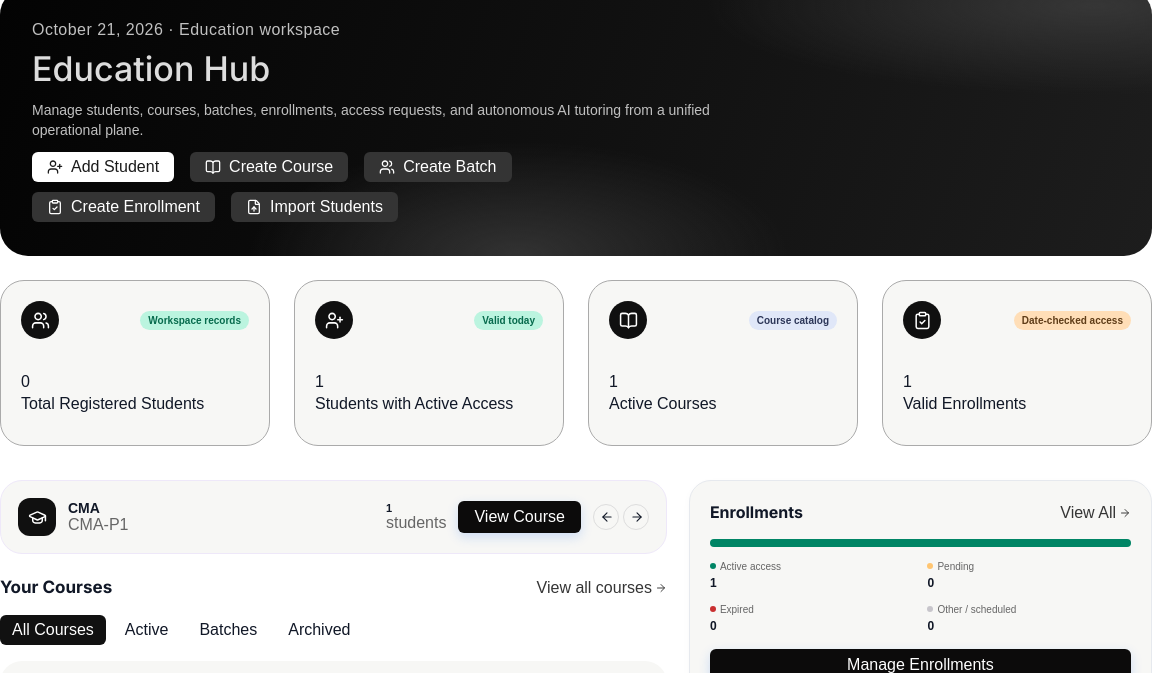
Test case: PDF dashboard interactions › shows real courses, filters archived records, and changes chart periods
expect the heading "Education Hub" is shown: met, box [32,48,270,89]
Click the button "Archived" at (319, 630), box [276,615,362,645]
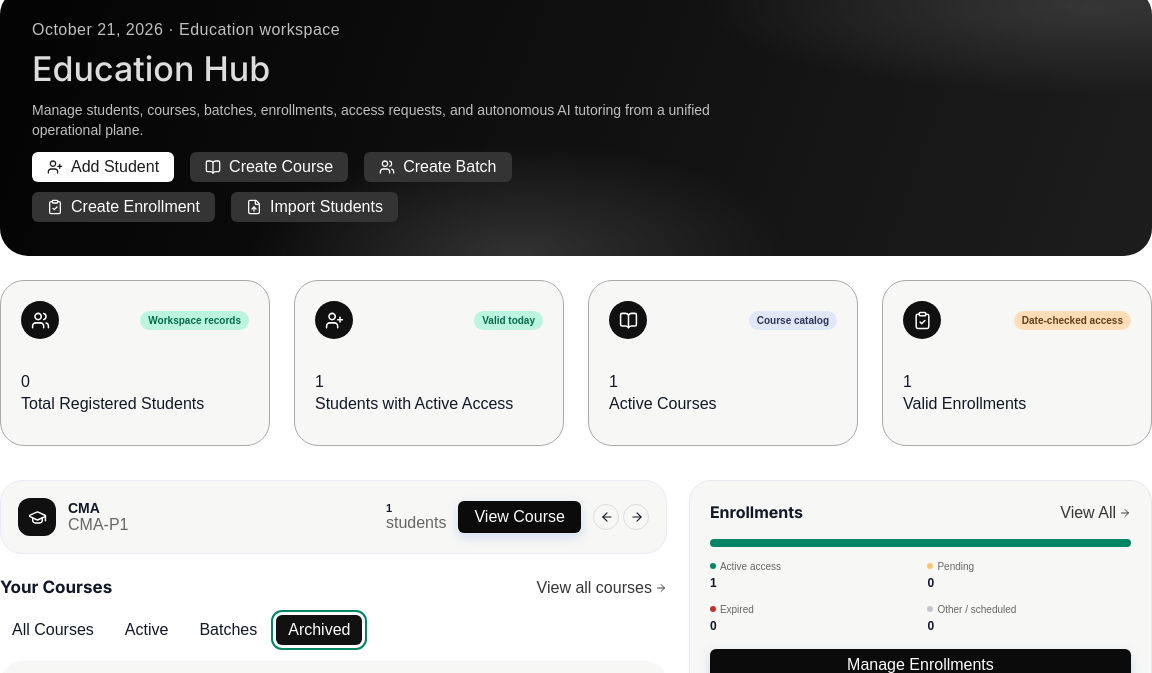
Click the button named "Next course" at (636, 517), box [623,504,649,530]
(page scrolled)
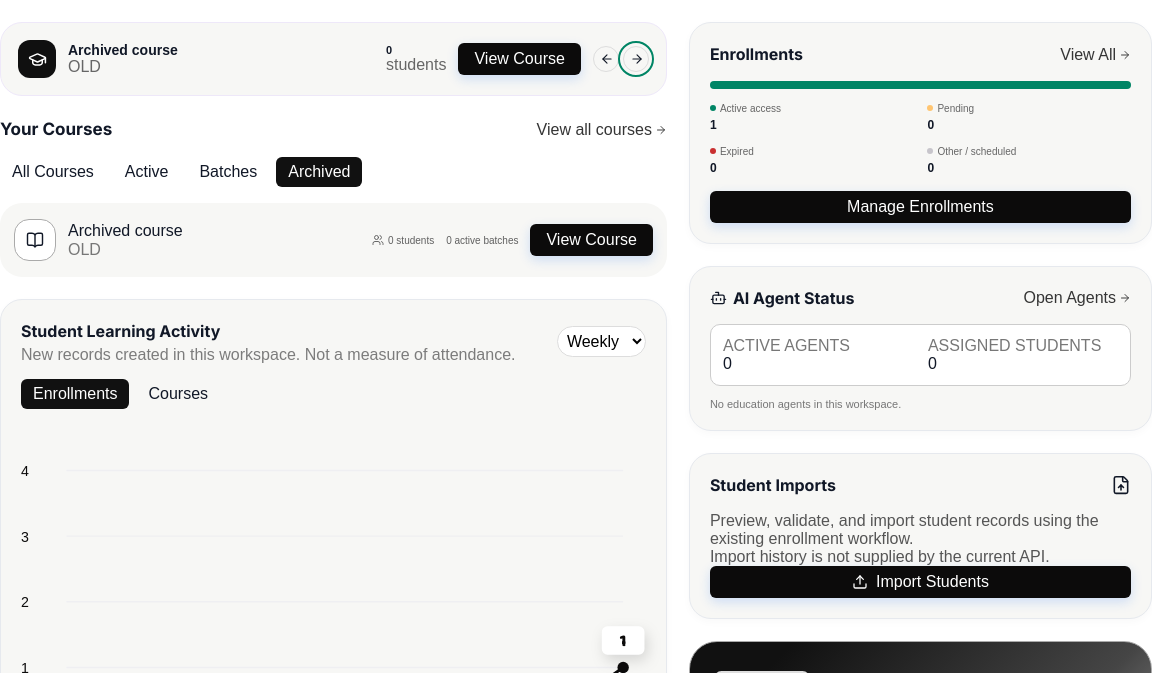
expect the link with aria-label "Continue with Archived course" has attribute href="/education/courses?selected=old": met, box [458,43,581,75]
Select "Monthly" in the dropdown named "Academy chart period" at (601, 342), box [557,326,646,357]
(page scrolled)
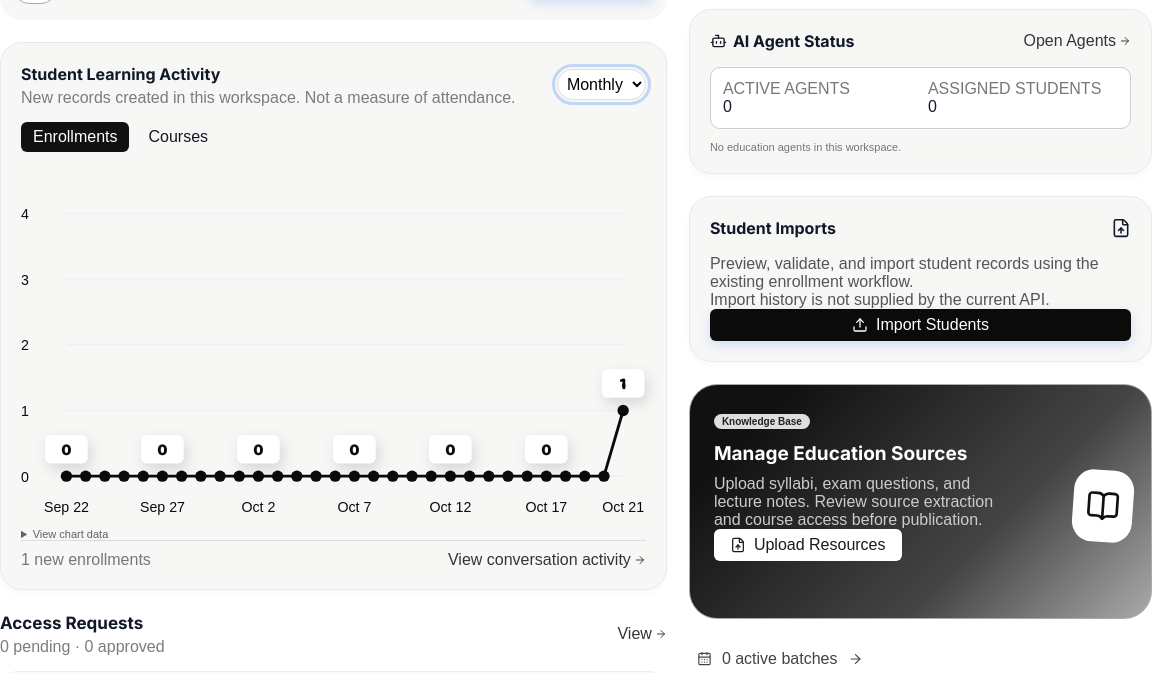
expect the picture named "Enrollments created in the last 30 days" is shown: met, box [21,168,646,516]
